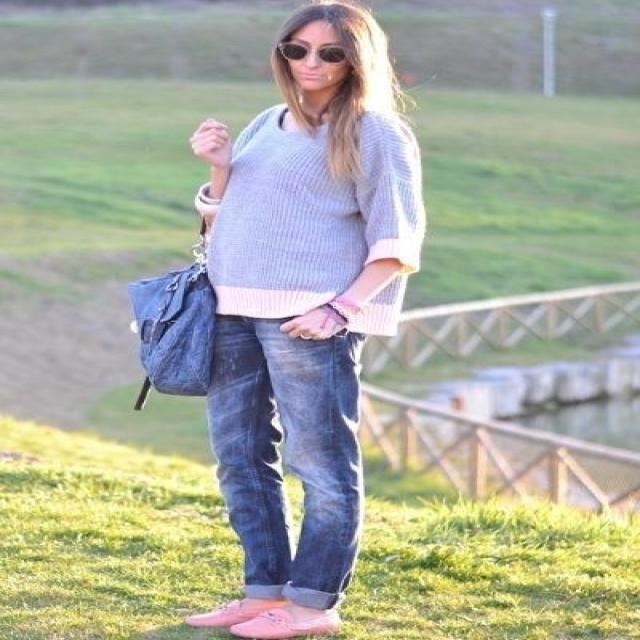bag: (128, 261, 218, 410)
pants: (202, 308, 360, 610)
shirt: (194, 102, 420, 294)
shoe: (186, 586, 324, 639)
